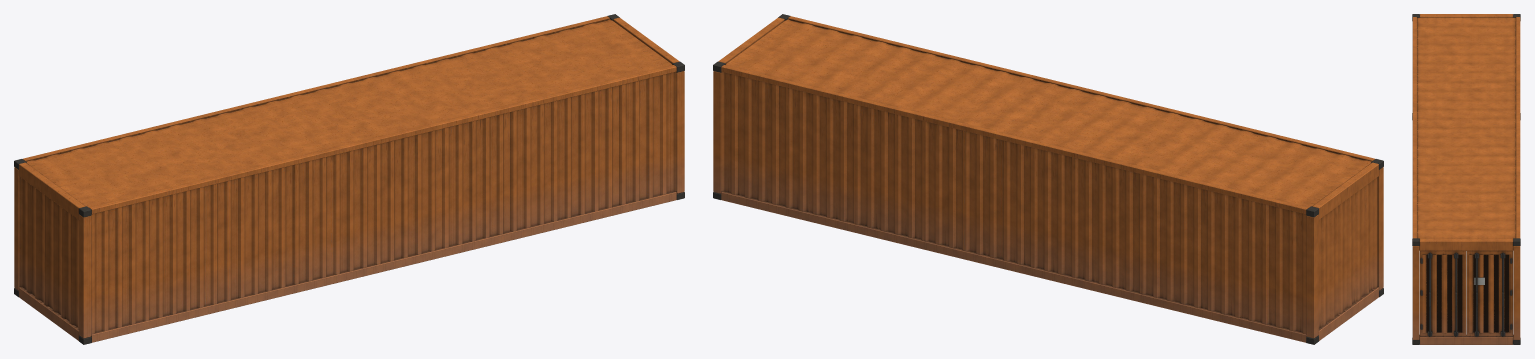
Rendered from container40_orange.glb.
3 views of the same model, side by side, from view 1: azimuth 30°, elevation 25°; view 2: azimuth 150°, elevation 25°; view 3: azimuth 270°, elevation 25° (orthographic). The views are drawn at different scales.
Visible parts, largest first — view 1: container40_orange; view 2: container40_orange; view 3: container40_orange.
Part boxes in pixels (<box>): container40_orange: <box>14,14,684,344</box>; container40_orange: <box>713,14,1383,344</box>; container40_orange: <box>1412,14,1520,344</box>.
Bounding box in the file's own units: 12.31 × 2.59 × 2.45.
Materials: 1 (1 with a texture image).
